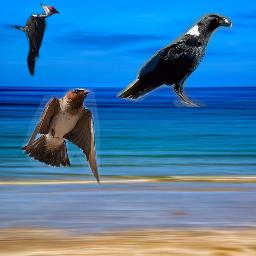Crow: (116, 13, 233, 107)
Swallow: (22, 88, 100, 186)
Woodpecker: (11, 3, 60, 77)
